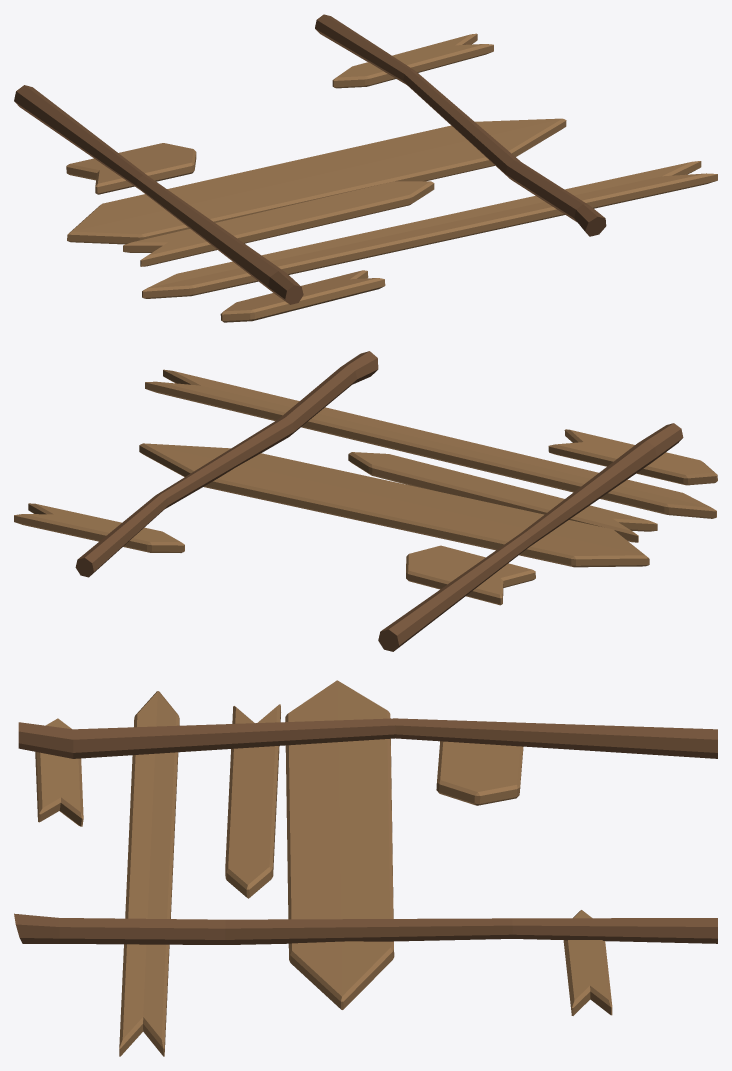
The model's file is Panel_21.fbx.
3 renders of one model, top to bottom at view 1: azimuth 30°, elevation 25°; view 2: azimuth 150°, elevation 25°; view 3: azimuth 270°, elevation 25°, orthographic. The views are drawn at different scales.
Parts seen in each view (by area): view 1: Poteau 2*6 bizzare fleches LOW.001; view 2: Poteau 2*6 bizzare fleches LOW.001; view 3: Poteau 2*6 bizzare fleches LOW.001.
Boxes of the visible parts, x1,y1,x2,y2 form: Poteau 2*6 bizzare fleches LOW.001: [14, 14, 717, 322]; Poteau 2*6 bizzare fleches LOW.001: [14, 351, 717, 651]; Poteau 2*6 bizzare fleches LOW.001: [14, 680, 717, 1056].
Size of the model in its own units: 190 by 13.31 by 161.
